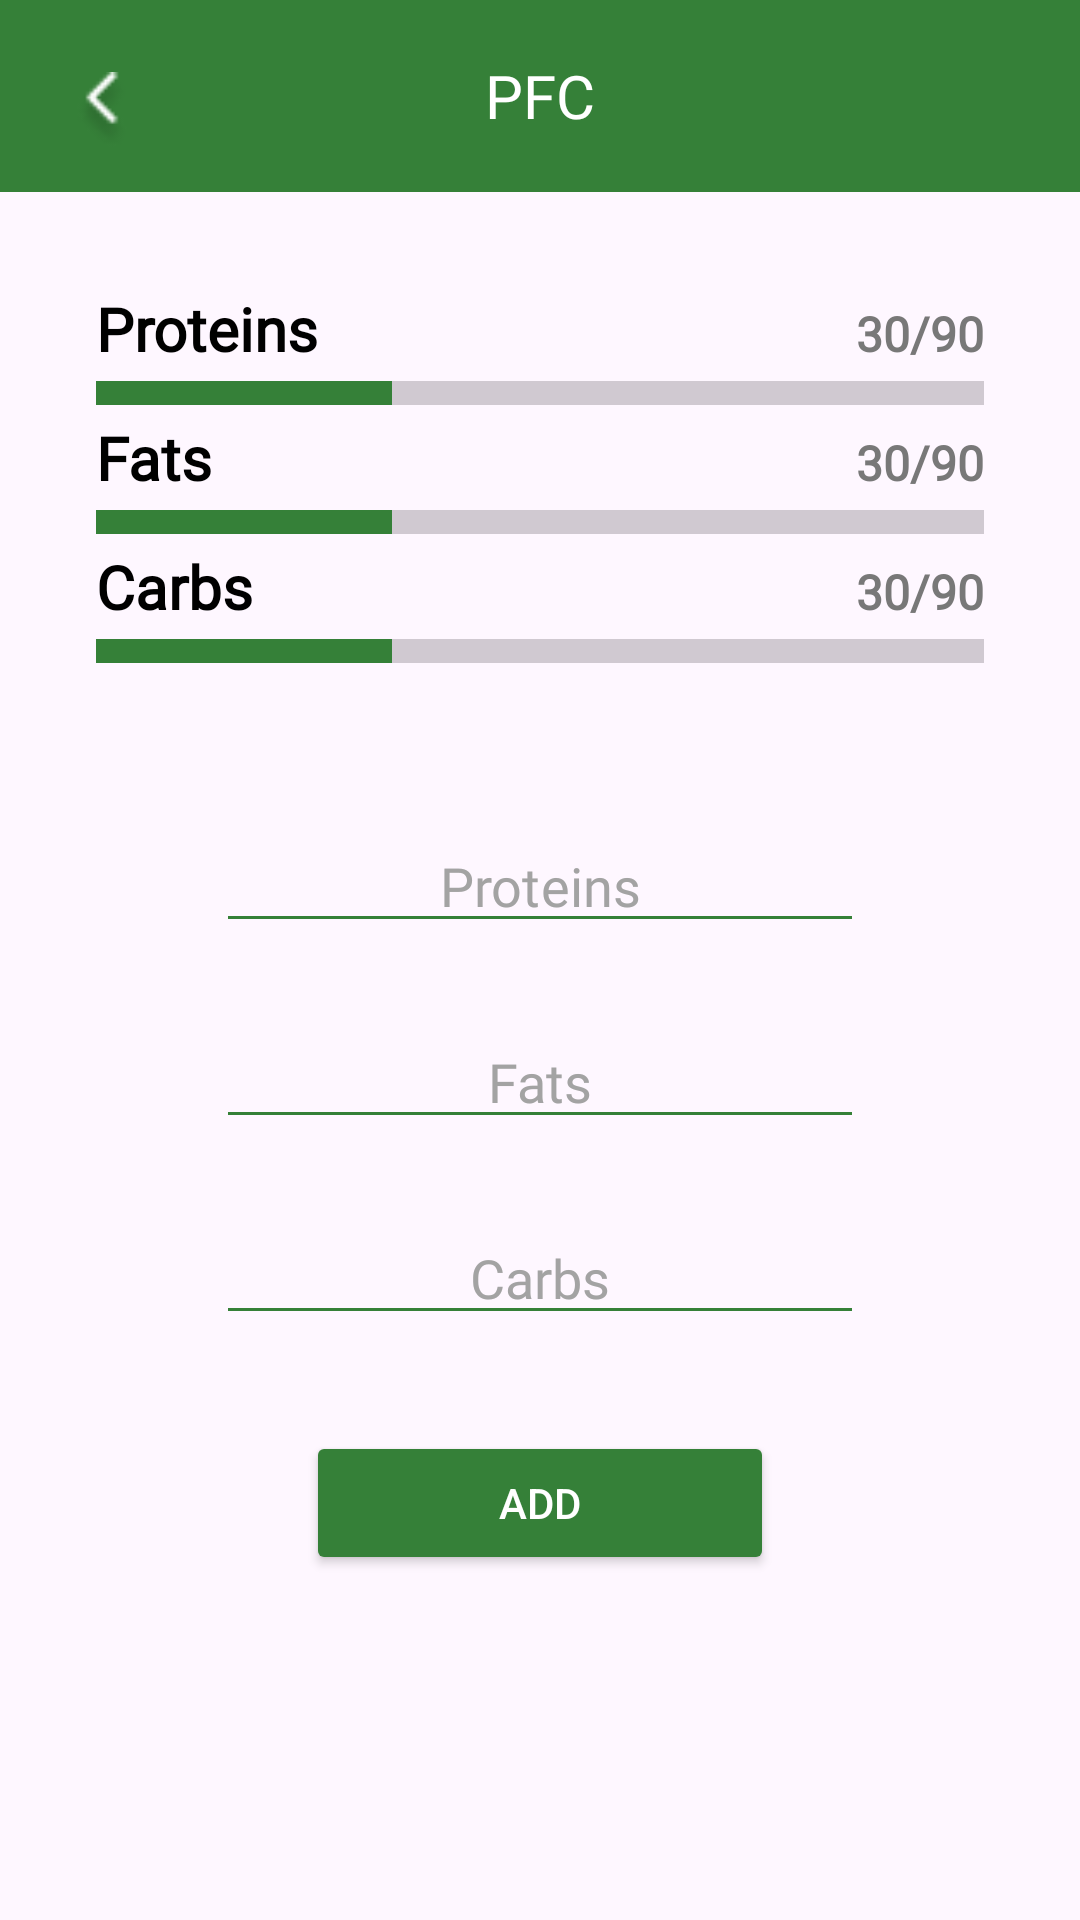

Icon bounding boxes for this 1080 × 1920 phone screenshot, format (x1, y1, x2, y2):
mobilehealth back: (86, 72, 118, 124)
